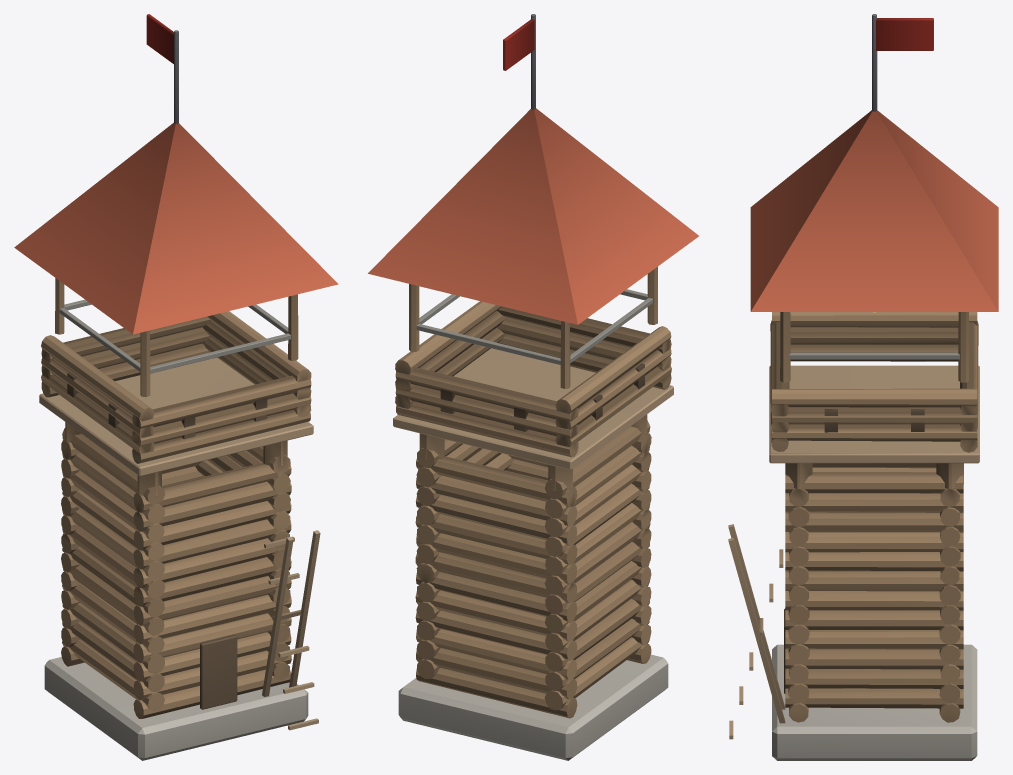
Rendered from bld_tower_e1.glb.
The picture shows the model from 3 angles, left to right: view 1: azimuth 30°, elevation 25°; view 2: azimuth 150°, elevation 25°; view 3: azimuth 270°, elevation 25°; orthographic projection. The views are drawn at different scales.
Visible parts, largest first — view 1: tower; view 2: tower; view 3: tower.
Boxes of the visible parts, x1,y1,x2,y2 form: tower: [14, 14, 338, 760]; tower: [368, 14, 698, 760]; tower: [728, 14, 998, 760].
Bounding box in the file's own units: 0.918 × 2.88 × 1.
